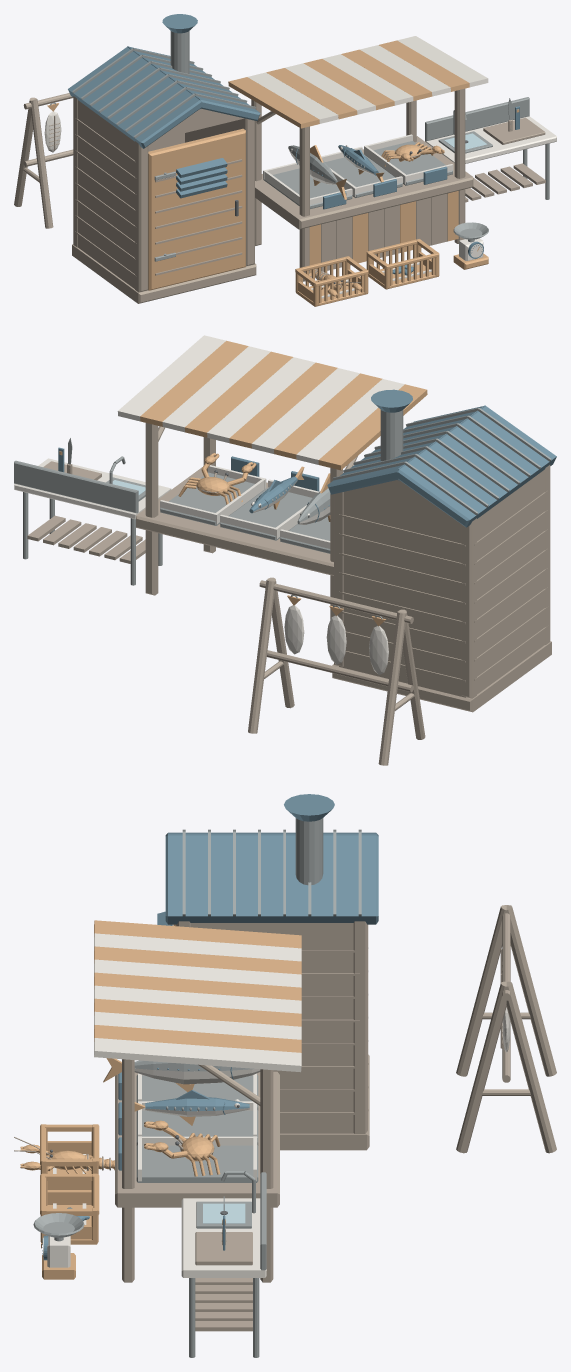
The model's file is seafood-market-stall.glb.
The picture shows the model from 3 angles, top to bottom: view 1: azimuth 30°, elevation 25°; view 2: azimuth 150°, elevation 25°; view 3: azimuth 270°, elevation 25°; orthographic projection. The views are drawn at different scales.
Parts seen in each view (by area): view 1: 000-fish-market-stall/cedar, 000-fish-market-stall/orange, 000-fish-market-stall/ivory, 000-fish-market-stall/navy, 000-fish-market-stall/metal; view 2: 000-fish-market-stall/cedar, 000-fish-market-stall/ivory, 000-fish-market-stall/metal, 000-fish-market-stall/orange, 000-fish-market-stall/navy; view 3: 000-fish-market-stall/cedar, 000-fish-market-stall/orange, 000-fish-market-stall/ivory, 000-fish-market-stall/navy, 000-fish-market-stall/metal, 009-fish-cleaning-table/glass.
Part boxes in pixels (<box>): 000-fish-market-stall/cedar: <box>14,88,545,303</box>; 000-fish-market-stall/orange: <box>47,40,519,306</box>; 000-fish-market-stall/ivory: <box>44,36,556,298</box>; 000-fish-market-stall/navy: <box>68,14,519,275</box>; 000-fish-market-stall/metal: <box>50,31,549,261</box>; 000-fish-market-stall/cedar: <box>27,423,551,765</box>; 000-fish-market-stall/ivory: <box>14,335,404,674</box>; 000-fish-market-stall/metal: <box>14,407,551,618</box>; 000-fish-market-stall/orange: <box>59,340,427,626</box>; 000-fish-market-stall/navy: <box>58,389,556,527</box>; 000-fish-market-stall/cedar: <box>14,905,556,1331</box>; 000-fish-market-stall/orange: <box>20,920,301,1279</box>; 000-fish-market-stall/ivory: <box>43,933,510,1277</box>; 000-fish-market-stall/navy: <box>42,794,378,1260</box>; 000-fish-market-stall/metal: <box>33,818,361,1357</box>; 009-fish-cleaning-table/glass: <box>203,1203,245,1223</box>.
Size of the model in its own units: 6.54 by 3.36 by 5.1.
